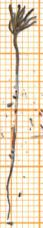flower: (0, 0, 40, 37)
root: (2, 105, 21, 223)
stem: (10, 37, 22, 105)
